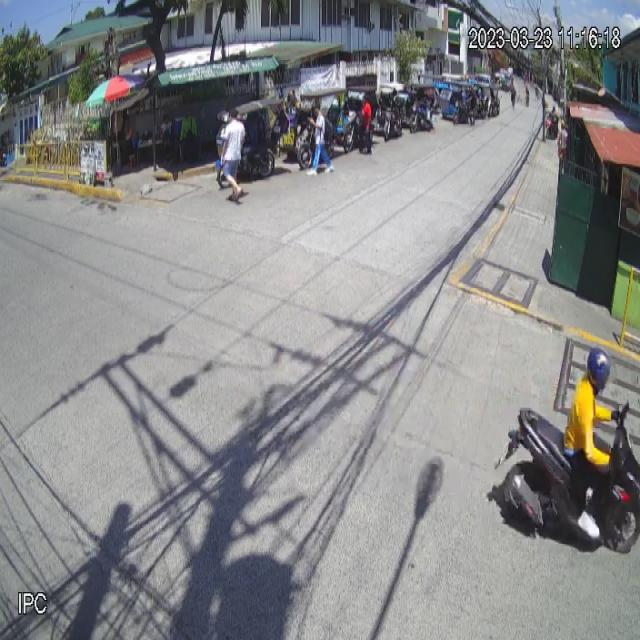Motorcycle: (495, 398, 640, 557)
